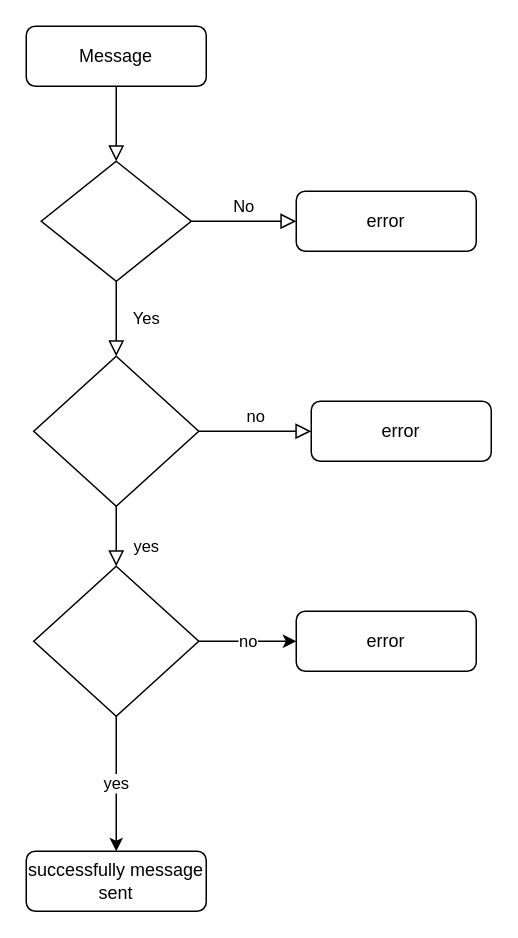
Some shapes in this 518 by 938 pixel diagram are drawn without their labels. The centre of each missing label's shape, as x and y in pixels:
check contact numbers: (x=115, y=430)
check MNP: (x=115, y=220)
check route: (x=115, y=640)
